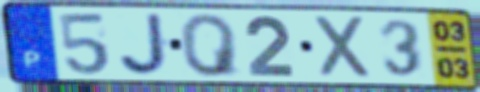2: (243, 13, 298, 80)
3: (376, 17, 424, 79)
5: (56, 11, 114, 78)
J: (116, 11, 174, 78)
Q: (177, 12, 244, 79)
X: (311, 13, 376, 81)
